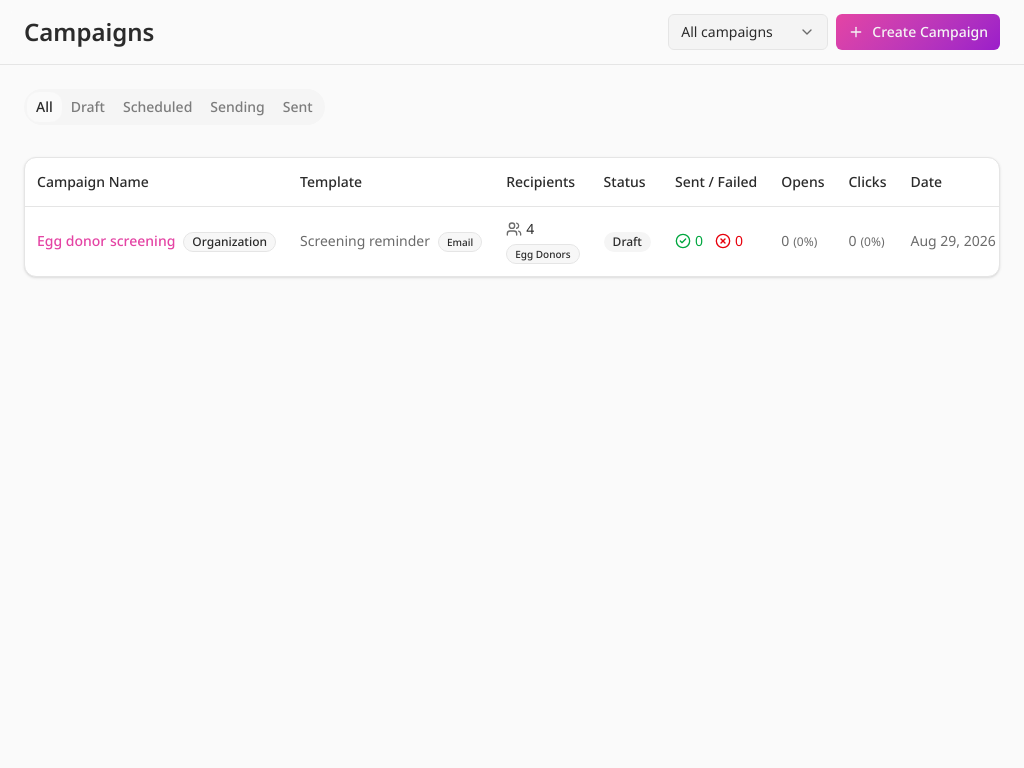
Scenario: donor campaign creation › labels the four wizard steps and marks the current one
What coordinates should you click on to do the following:
click the button "Create Campaign"
I would click on:
 (918, 32)
Its box is [836,14,1000,50].
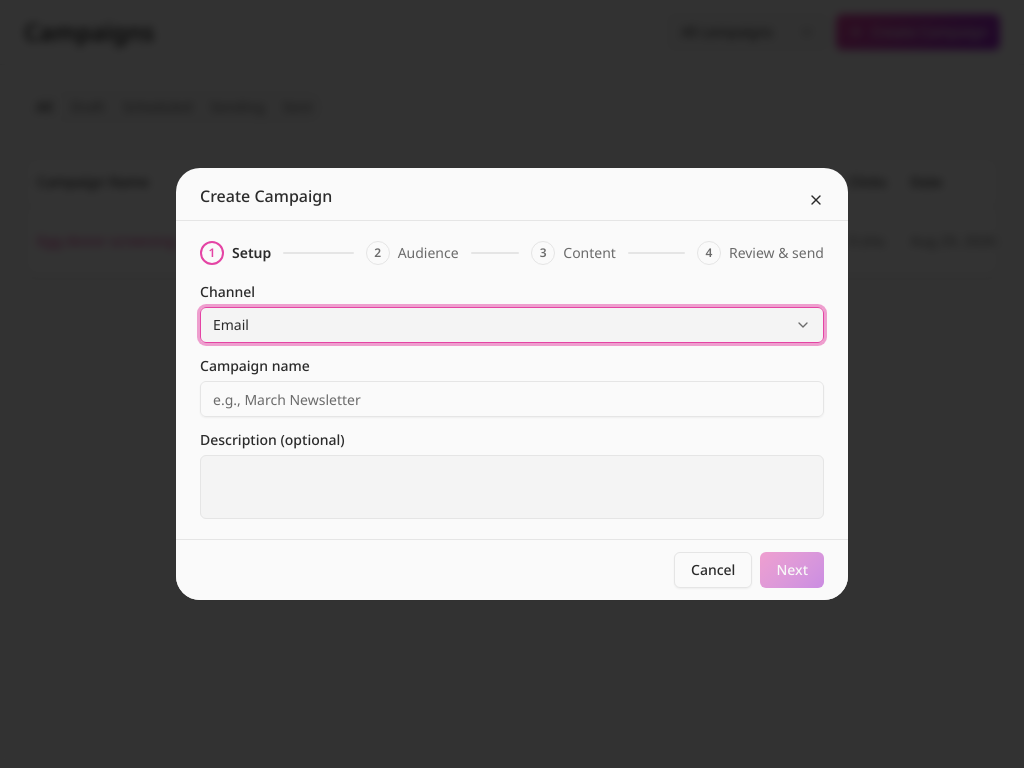
Check: the list items read "1Setup (current step)", "2Audience", "3Content", "4Review & send", in this order, box [200,241,354,265]; [366,241,519,265]; [531,241,685,265]; [697,241,824,265]
